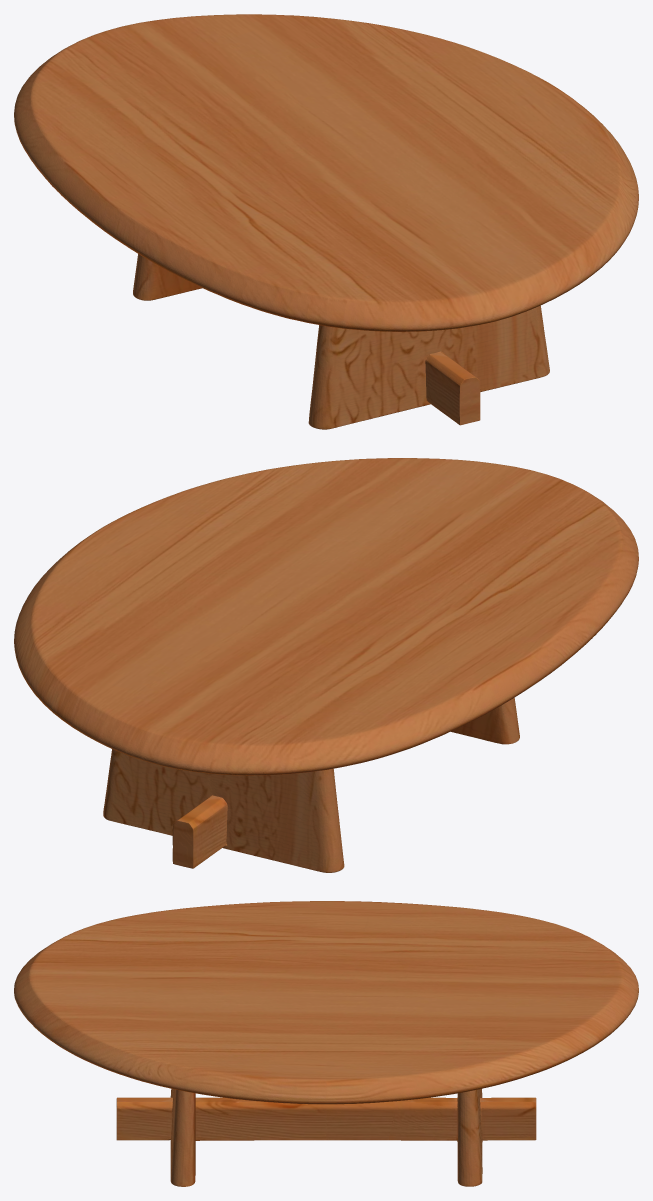
3 renders of one model, top to bottom at view 1: azimuth 30°, elevation 25°; view 2: azimuth 150°, elevation 25°; view 3: azimuth 270°, elevation 25°, orthographic. The views are drawn at different scales.
Parts seen in each view (by area): view 1: tripo_node_7278fd68-d393-48d5-880b-f4e89cbfd698; view 2: tripo_node_7278fd68-d393-48d5-880b-f4e89cbfd698; view 3: tripo_node_7278fd68-d393-48d5-880b-f4e89cbfd698.
Boxes of the visible parts, bbox=[...] form: tripo_node_7278fd68-d393-48d5-880b-f4e89cbfd698: bbox=[14, 14, 638, 429]; tripo_node_7278fd68-d393-48d5-880b-f4e89cbfd698: bbox=[14, 458, 638, 872]; tripo_node_7278fd68-d393-48d5-880b-f4e89cbfd698: bbox=[14, 901, 638, 1186].
Size of the model in its own units: 0.7233 by 0.2641 by 1.
Materials: 1 (1 with a texture image).
